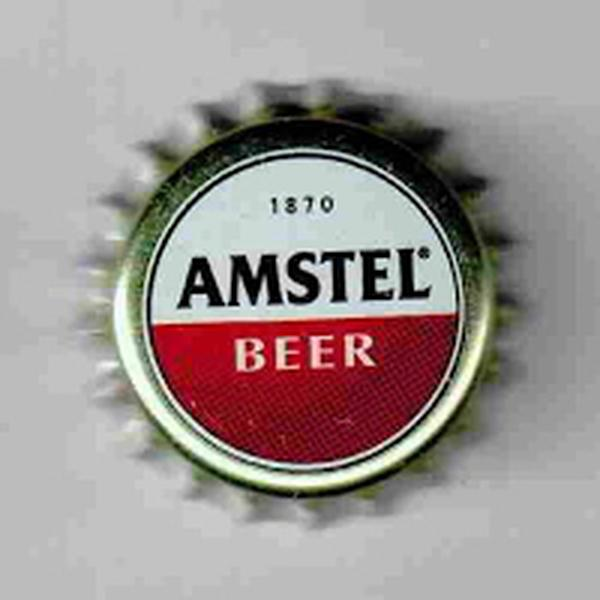amstel: (95, 96, 511, 514)
